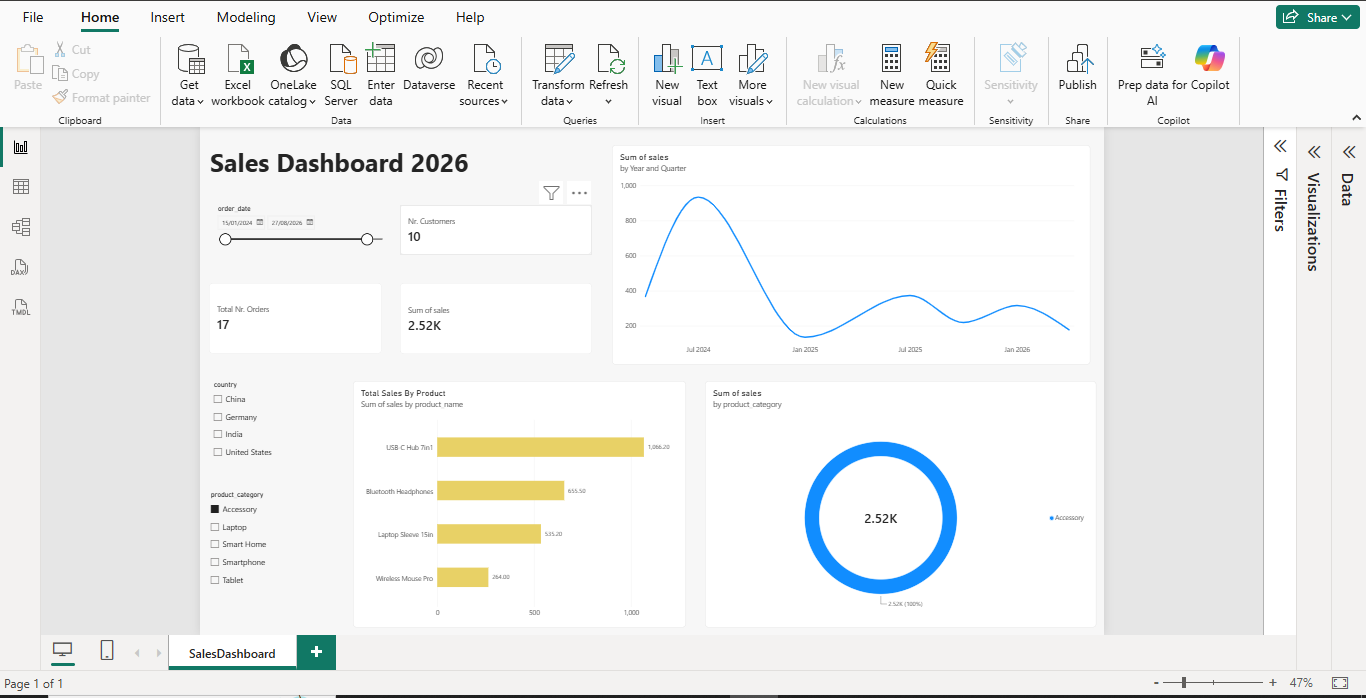

What the dashboard file says about the page in this screenshot:
{"tool":"powerbi","page":{"name":"SalesDashboard","canvas":[1920,1080],"ordinal":0},"visuals":[{"type":"barChart","title":"Total Sales By Product","fields":{"Category":["orders.product_name"],"Y":["Sum(orders.sales)"]},"box":[325.3,539.8,707.6,523.8],"z":0},{"type":"donutChart","fields":{"Category":["orders.product_category"],"Y":["Sum(orders.sales)"]},"box":[1073.8,539.8,831.6,523.8],"z":1000},{"type":"cardVisual","fields":{"Data":["Sum(orders.sales)"]},"box":[425.8,332.6,408.2,151.2],"z":2000},{"type":"cardVisual","fields":{"Data":["CountNonNull(orders.order_id)"]},"box":[20.2,332.6,367.7,150.3],"z":3000},{"type":"cardVisual","fields":{"Data":["Count(orders.customer_id)"]},"box":[426,166.3,407.1,105],"z":4000},{"type":"lineChart","fields":{"Category":["orders.order_date.Variation.Date Hierarchy.Year","orders.order_date.Variation.Date Hierarchy.Quarter","orders.order_date.Variation.Date Hierarchy.Month","orders.order_date.Variation.Date Hierarchy.Day"],"Y":["Sum(orders.sales)"]},"box":[876.8,37.9,1016.9,466.9],"z":5000},{"type":"slicer","fields":{"Values":["customers.country"]},"box":[20.4,539.8,283,192.6],"z":6000},{"type":"slicer","fields":{"Values":["orders.product_category"]},"box":[15.1,773.5,291.8,291.8],"z":7000},{"type":"slicer","fields":{"Values":["orders.order_date"]},"box":[29.2,166.3,376.4,166.3],"z":8000},{"type":"textbox","box":[20.4,37.9,812.6,93.4],"z":9000}]}

Visuals, with their boxes on the page's 1920x1080 design canvas (x1, y1, x2, y2). These are canvas units, not pixel positions in the 1366x698 screenshot, which may show the page scaled, cropped or inside an application window:
"Total Sales By Product" barChart: (x1=325, y1=540, x2=1033, y2=1064)
donutChart - orders.product_category x Sum(orders.sales): (x1=1074, y1=540, x2=1905, y2=1064)
cardVisual - Sum(orders.sales): (x1=426, y1=333, x2=834, y2=484)
cardVisual - CountNonNull(orders.order_id): (x1=20, y1=333, x2=388, y2=483)
cardVisual - Count(orders.customer_id): (x1=426, y1=166, x2=833, y2=271)
lineChart - orders.order_date.Variation.Date Hierarchy.Year x orders.order_date.Variation.Date Hierarchy.Quarter: (x1=877, y1=38, x2=1894, y2=505)
slicer - customers.country: (x1=20, y1=540, x2=303, y2=732)
slicer - orders.product_category: (x1=15, y1=774, x2=307, y2=1065)
slicer - orders.order_date: (x1=29, y1=166, x2=406, y2=333)
textbox: (x1=20, y1=38, x2=833, y2=131)
